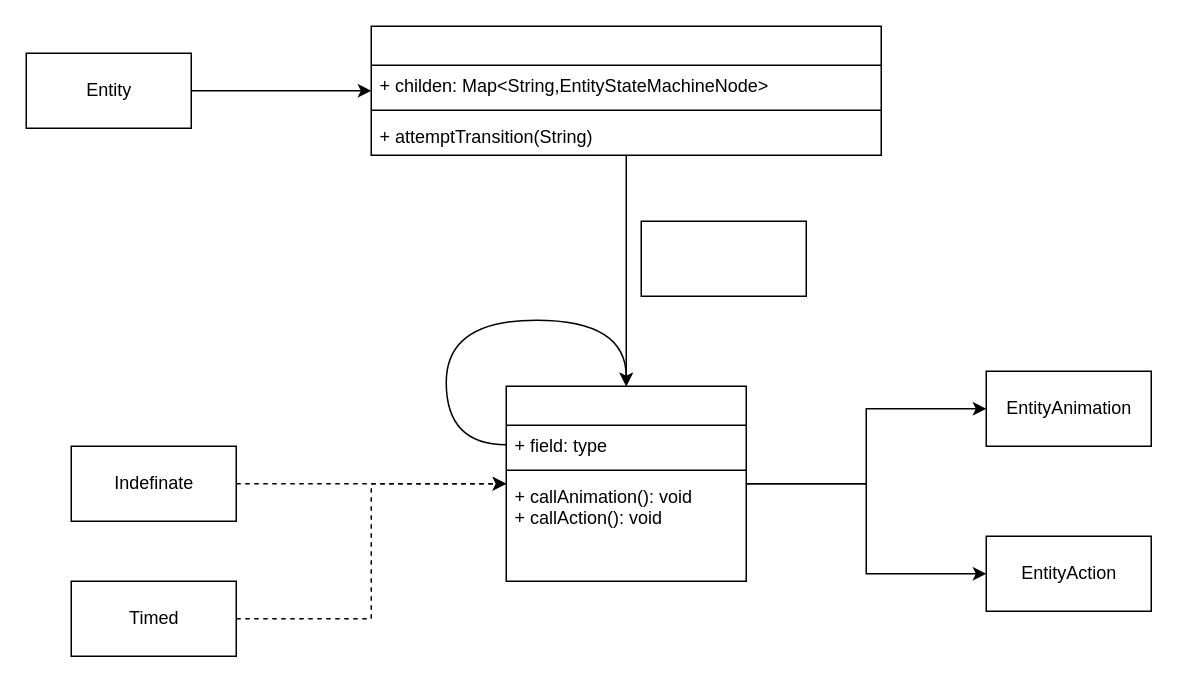
The diagram is 1178 pixels wide and 683 high, and some of its shapes have lost their labels. The box of each missing label's shape, as (x1, y1, x2, y2) in pixels:
EntityStateMachine: (370, 25, 881, 155)
EntityStateMachineNode: (505, 385, 746, 581)
transitions: (640, 220, 806, 296)
